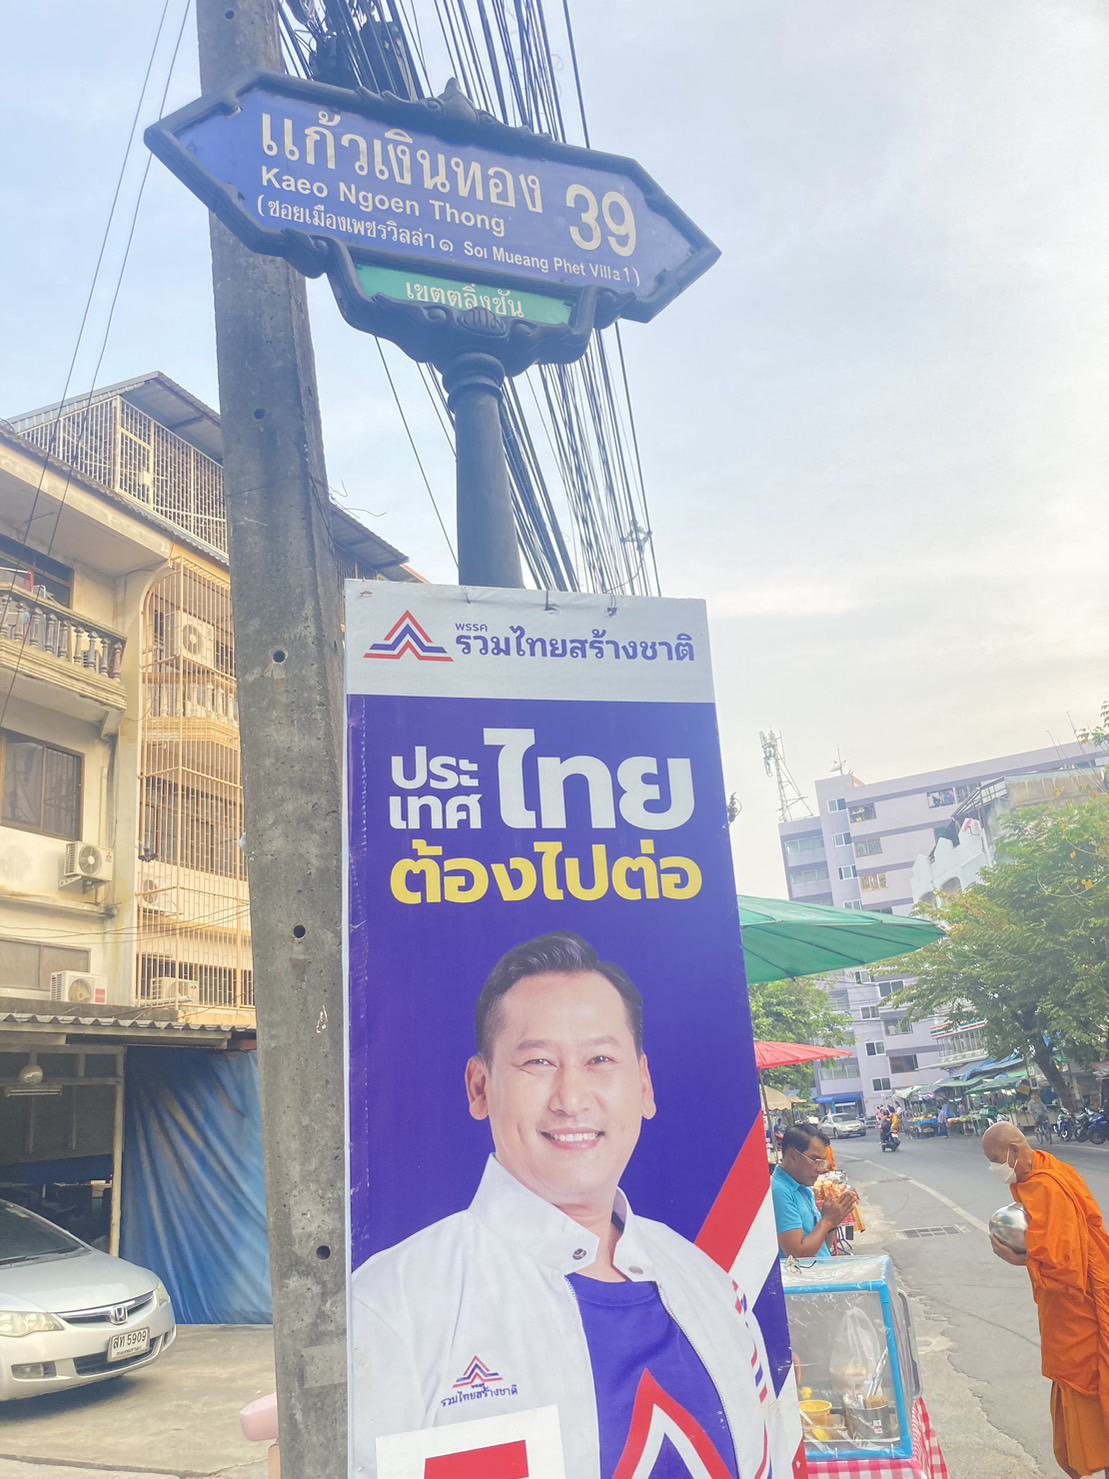Banner: (337, 569, 812, 1479)
